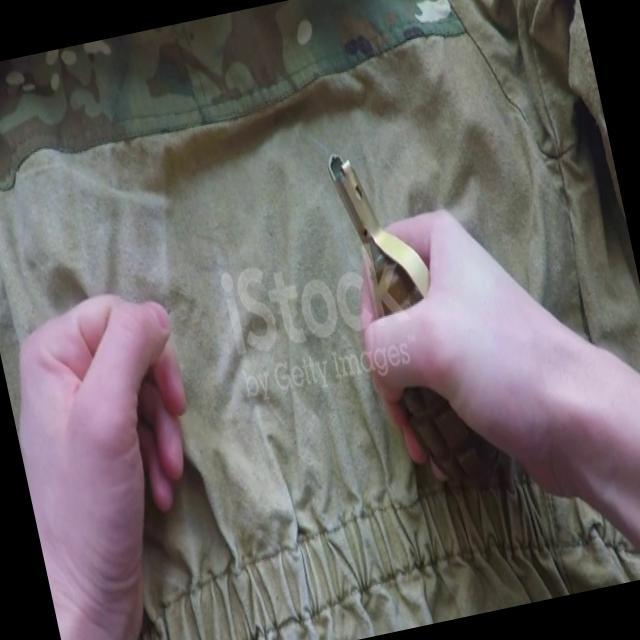grenade: (322, 132, 506, 506)
